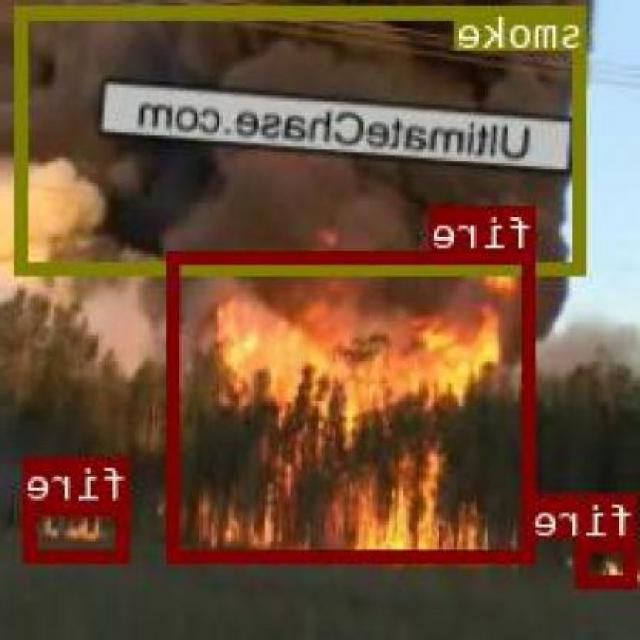Fire: (176, 260, 544, 555)
Smoke: (1, 0, 596, 317)
